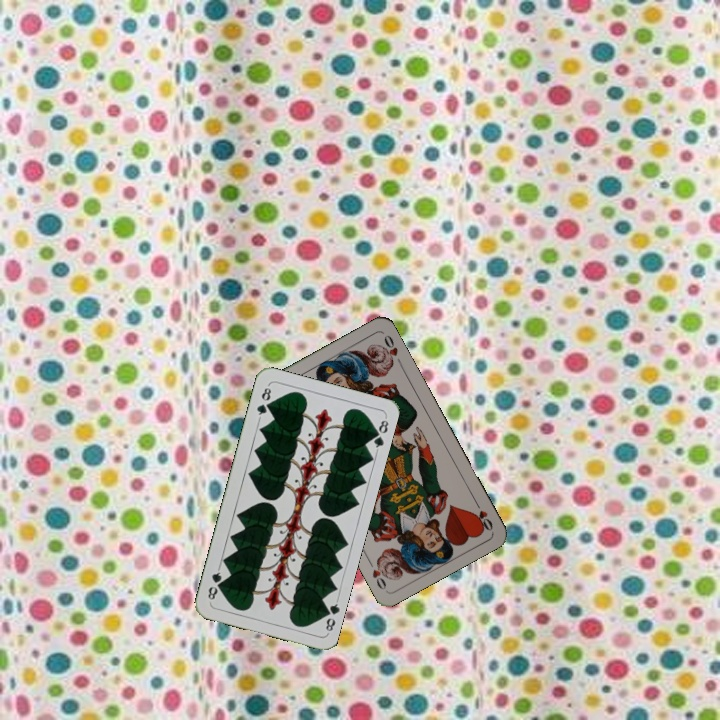G8: (319, 596, 342, 636), (252, 381, 274, 421)
HO: (470, 496, 495, 534)
